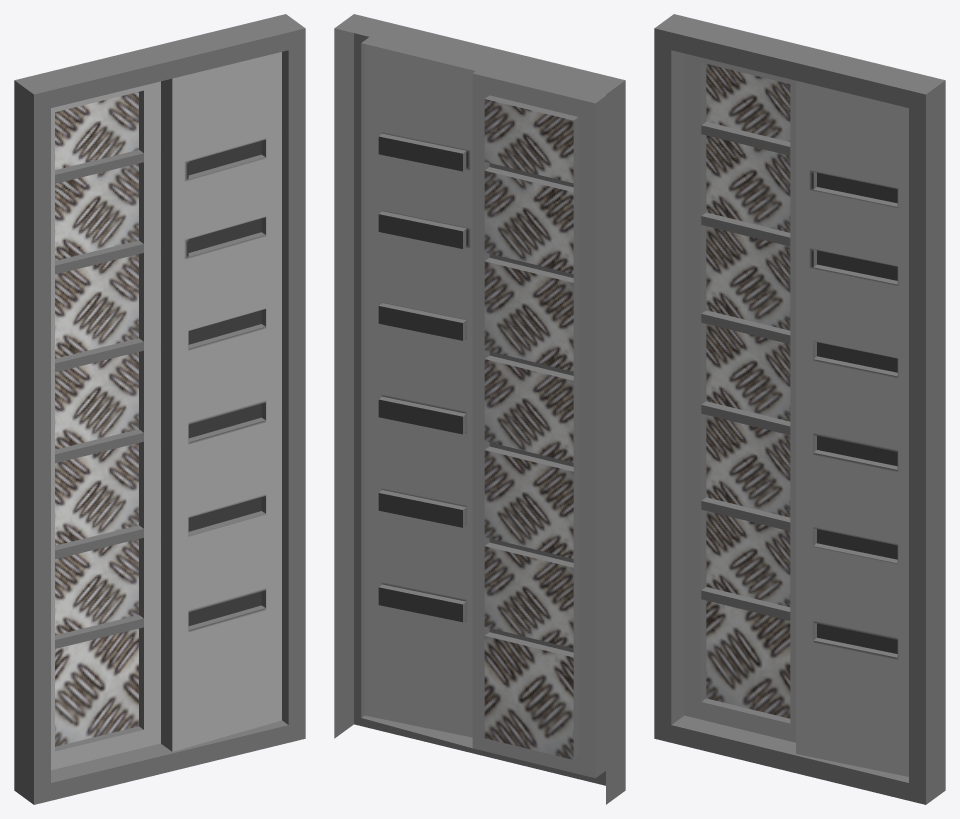
File: Door_Beta_01.fbx
3 renders of one model, left to right at view 1: azimuth 30°, elevation 25°; view 2: azimuth 150°, elevation 25°; view 3: azimuth 330°, elevation 25°, orthographic.
Parts seen in each view (by area): view 1: pCube1; view 2: pCube1; view 3: pCube1.
Part boxes in pixels (left/top/right/bottom): pCube1: left=14, top=14, right=305, bottom=804; pCube1: left=334, top=14, right=625, bottom=804; pCube1: left=654, top=14, right=945, bottom=804.
Size of the model in its own units: 80 by 200 by 10.
Materials: 1 (1 with a texture image).
